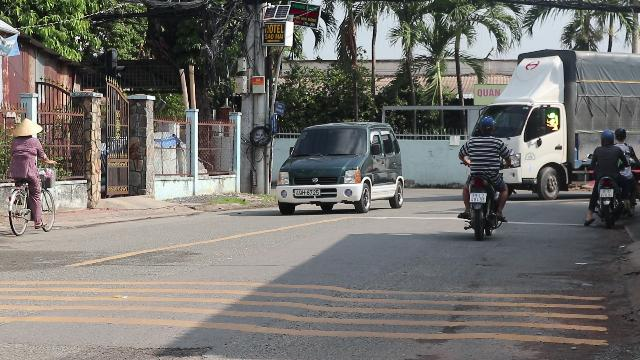helmet: (600, 129, 614, 145)
licenseplate: (469, 193, 485, 202), (600, 189, 614, 197)
motorcyclist: (454, 114, 510, 238), (584, 127, 638, 227)
nohelmet: (476, 115, 496, 134)
